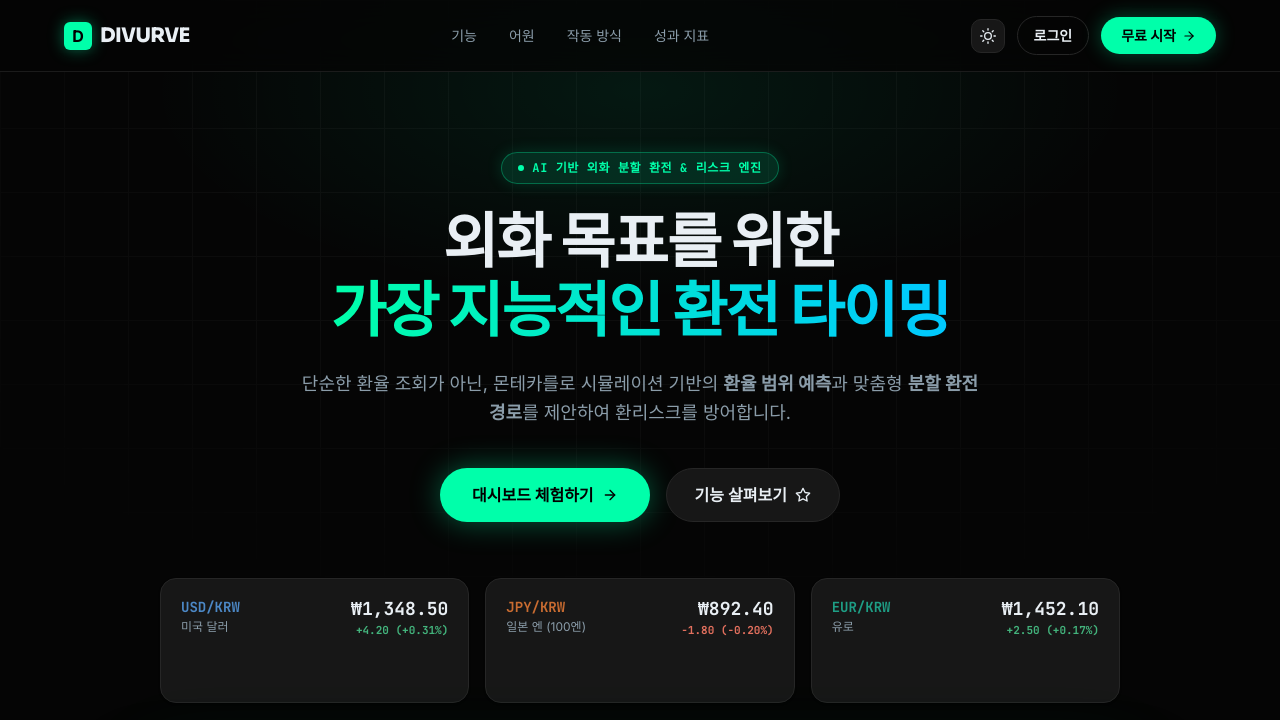
Test case: App › 세션 발급 오류를 화면에 표시한다
Click the button "대시보드 체험하기": (545, 495) [440,468,650,522]
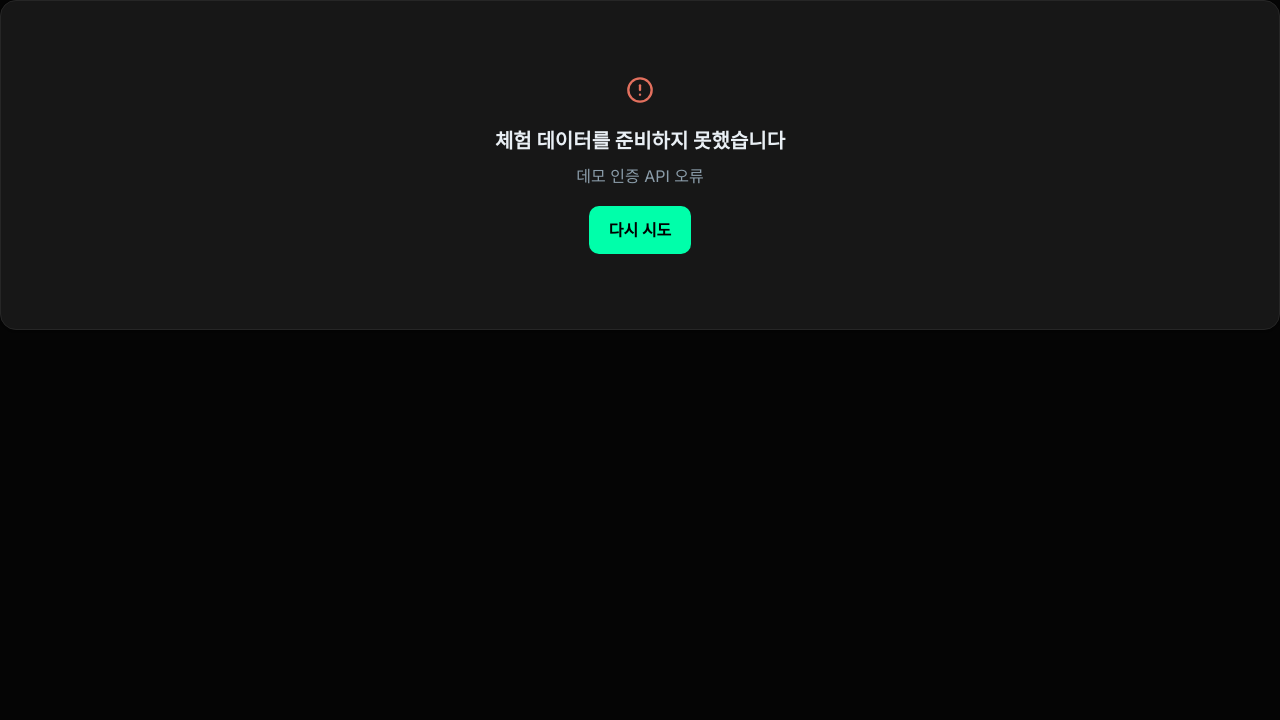
Expected: the message shows "데모 인증 API 오류", [576,166,704,186]
